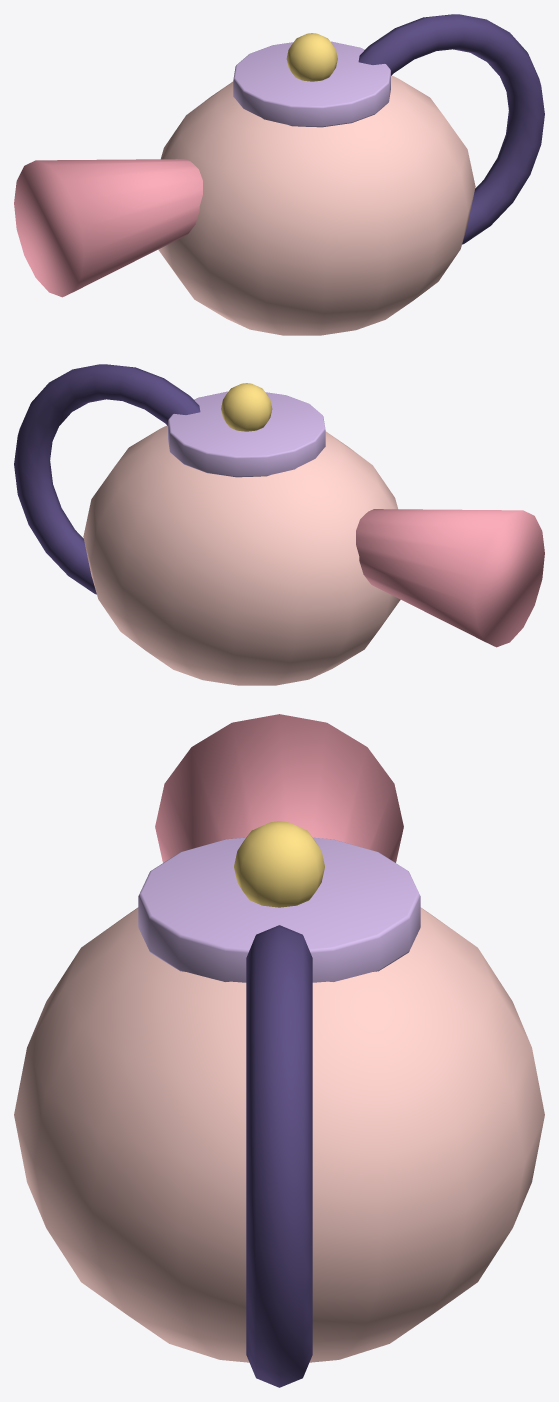
Rendered from kitchen_teapot.glb.
3 renders of one model, top to bottom at view 1: azimuth 30°, elevation 25°; view 2: azimuth 150°, elevation 25°; view 3: azimuth 270°, elevation 25°, orthographic. The views are drawn at different scales.
Parts seen in each view (by area): view 1: Body.003, Spout.001, Handle.001, Lid.001, Knob.001; view 2: Body.003, Spout.001, Handle.001, Lid.001, Knob.001; view 3: Body.003, Handle.001, Lid.001, Spout.001, Knob.001.
Part boxes in pixels (bbox=[...]): Body.003: bbox=[158, 75, 475, 335]; Spout.001: bbox=[14, 159, 202, 297]; Handle.001: bbox=[358, 14, 544, 244]; Lid.001: bbox=[233, 41, 390, 127]; Knob.001: bbox=[286, 33, 337, 81]; Body.003: bbox=[83, 425, 400, 685]; Spout.001: bbox=[356, 509, 544, 647]; Handle.001: bbox=[14, 364, 200, 594]; Lid.001: bbox=[168, 391, 325, 477]; Knob.001: bbox=[221, 383, 272, 431]; Body.003: bbox=[14, 907, 544, 1362]; Handle.001: bbox=[246, 925, 312, 1387]; Lid.001: bbox=[138, 837, 420, 982]; Spout.001: bbox=[155, 714, 403, 862]; Knob.001: bbox=[234, 821, 324, 907].
Bounding box in the file's own units: 2.44 × 1.35 × 1.28.
